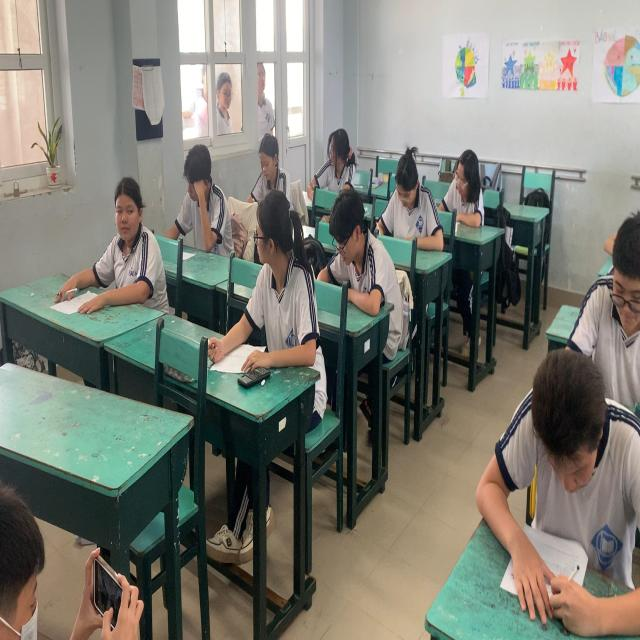cheating: (239, 192, 320, 364), (93, 178, 155, 305), (311, 120, 361, 198)
not_cheating: (487, 354, 640, 600), (324, 192, 384, 309), (168, 153, 230, 261), (378, 150, 441, 247), (238, 126, 293, 198), (439, 150, 480, 226)
